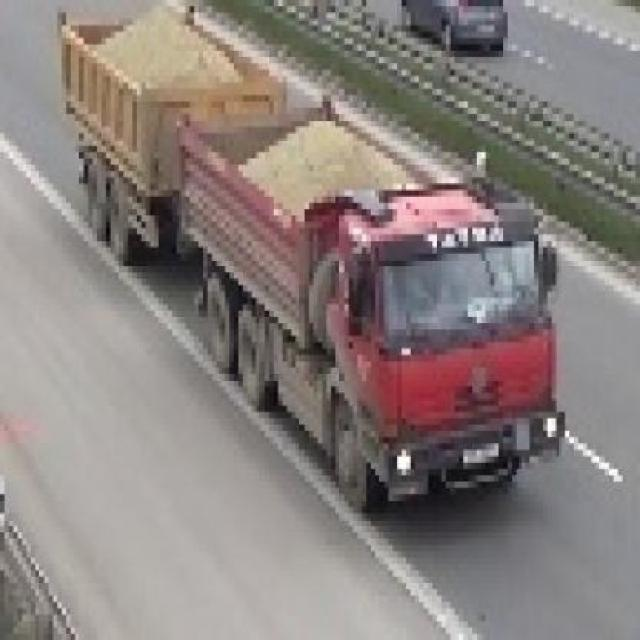truck: (67, 1, 566, 515)
